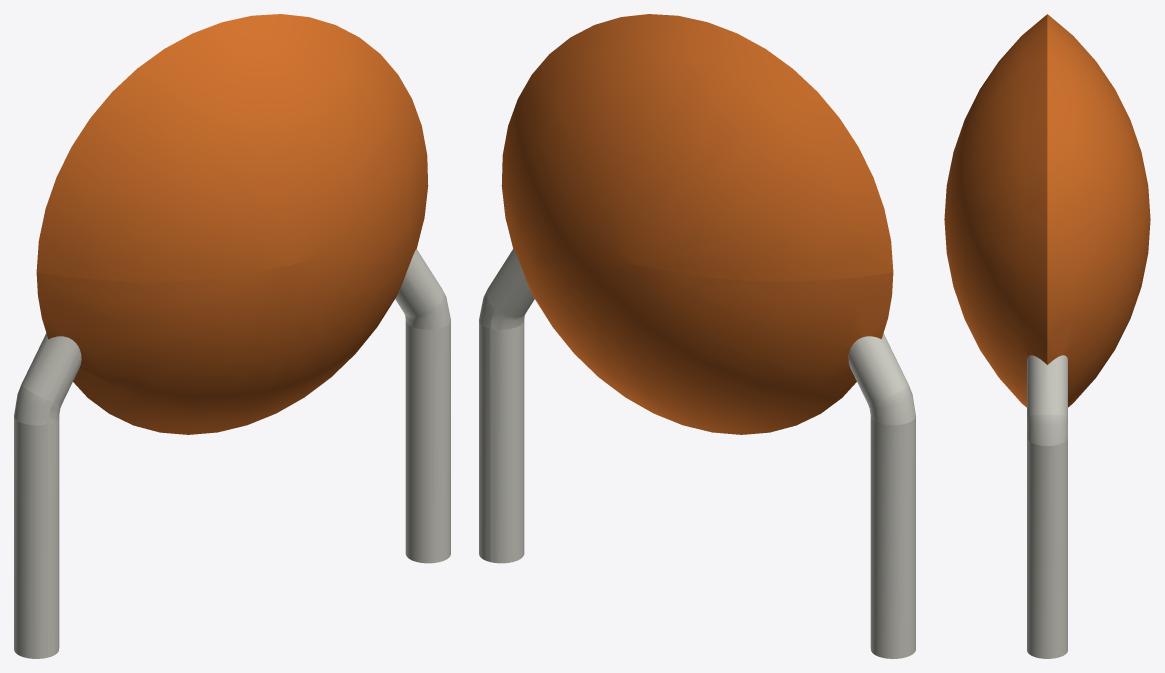
File: kc-c_disc_d5.0mm_w2.5mm_p5.00mm.glb
The picture shows the model from 3 angles, left to right: view 1: azimuth 30°, elevation 25°; view 2: azimuth 150°, elevation 25°; view 3: azimuth 270°, elevation 25°; orthographic projection. The views are drawn at different scales.
Parts seen in each view (by area): view 1: 0.5833333333333334_0.16666666666666666_0_0, 0.6666666666666666_0.6666666666666666_0.5833333333333334_0.8; view 2: 0.5833333333333334_0.16666666666666666_0_0, 0.6666666666666666_0.6666666666666666_0.5833333333333334_0.8; view 3: 0.5833333333333334_0.16666666666666666_0_0, 0.6666666666666666_0.6666666666666666_0.5833333333333334_0.8.
Boxes of the visible parts, x1,y1,x2,y2 form: 0.5833333333333334_0.16666666666666666_0_0: (36,14,428,434); 0.6666666666666666_0.6666666666666666_0.5833333333333334_0.8: (14,249,450,658); 0.5833333333333334_0.16666666666666666_0_0: (501,14,893,434); 0.6666666666666666_0.6666666666666666_0.5833333333333334_0.8: (479,249,915,658); 0.5833333333333334_0.16666666666666666_0_0: (944,14,1150,407); 0.6666666666666666_0.6666666666666666_0.5833333333333334_0.8: (1027,355,1067,658).
Bounding box in the file's own units: 0.55 × 0.7096 × 0.25.
